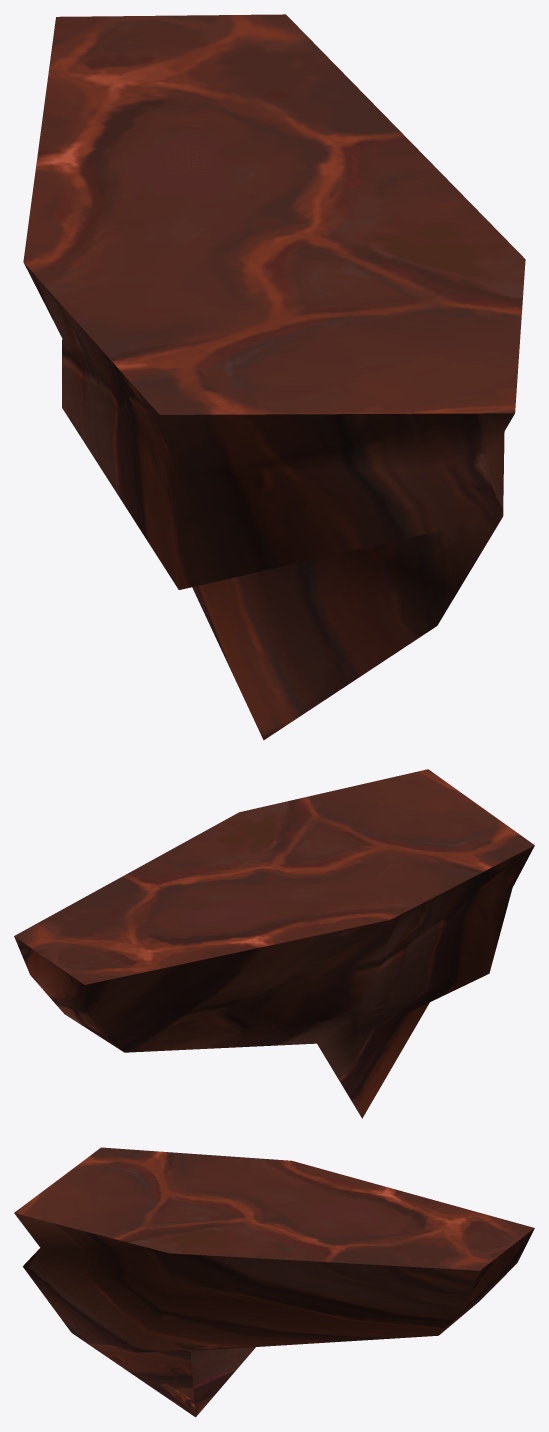
The model's file is fukongshi_huo_03.FBX.
3 views of the same model, one above another, from view 1: azimuth 30°, elevation 25°; view 2: azimuth 150°, elevation 25°; view 3: azimuth 270°, elevation 25° (orthographic). The views are drawn at different scales.
Visible parts, largest first — view 1: fukongshi_huo_03; view 2: fukongshi_huo_03; view 3: fukongshi_huo_03.
Part boxes in pixels (x1=…): fukongshi_huo_03: x1=23, y1=14, x2=525, y2=740; fukongshi_huo_03: x1=14, y1=769, x2=534, y2=1118; fukongshi_huo_03: x1=14, y1=1147, x2=534, y2=1417.
Size of the model in its own units: 260 by 465 by 218.
